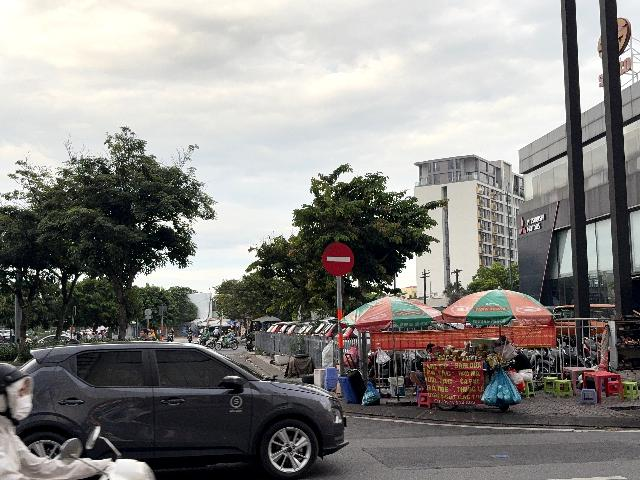cam-di-nguoc-chieu: (323, 243, 354, 276)
